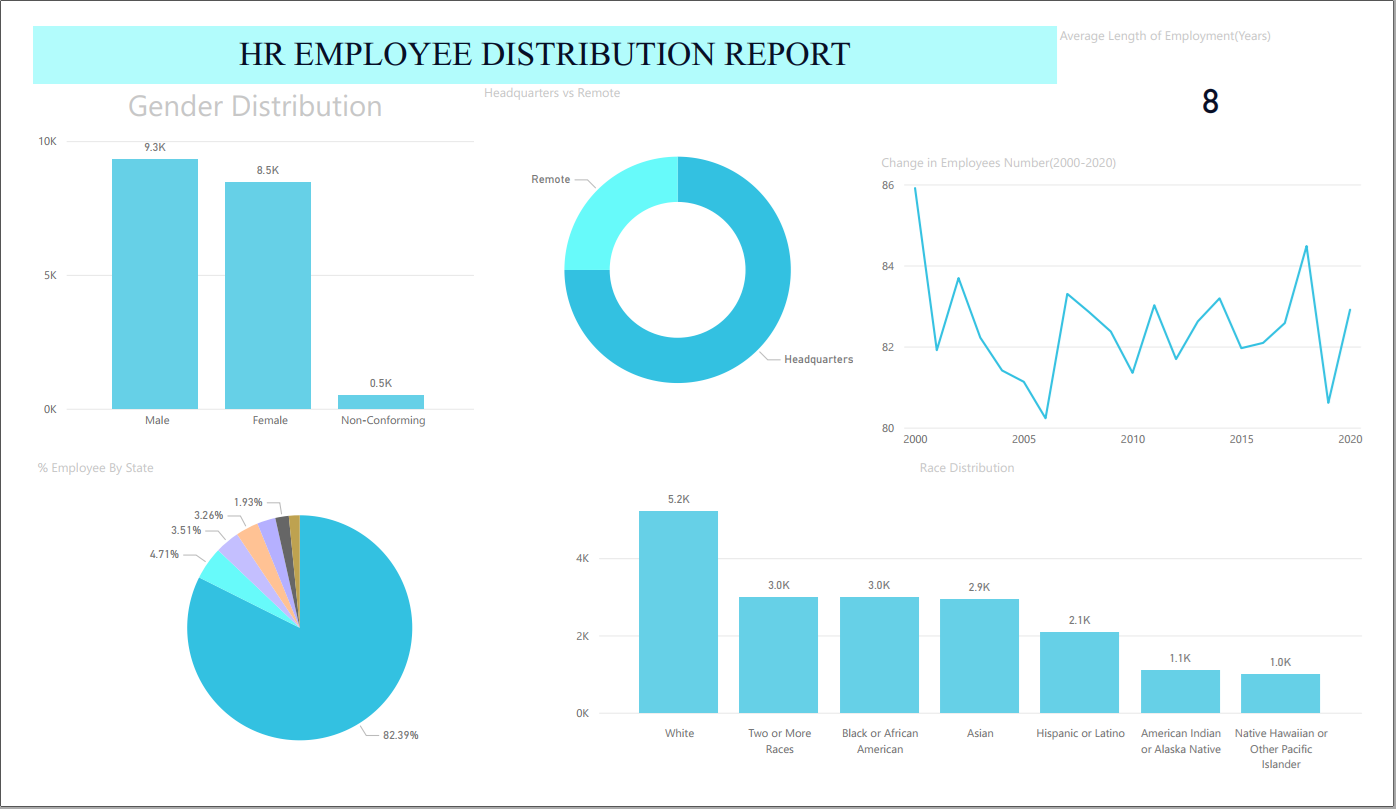

What the dashboard file says about the page in this screenshot:
{"tool":"powerbi","page":{"name":"Page 1","canvas":[1280,720],"ordinal":0},"visuals":[{"type":"textbox","box":[6.8,0,976.5,55.4],"z":0},{"type":"card","title":"Average Length of Employment(Years)","fields":{"Values":["Sum(avg_length_employment.avg_length_employment)"]},"box":[981.4,0,297.6,120.6],"z":1000},{"type":"columnChart","title":"Gender Distribution","fields":{"Y":["Sum(gender.count)"],"Category":["gender.gender"]},"box":[5.8,56.4,426,337.5],"z":2000},{"type":"donutChart","title":"Headquarters vs Remote","fields":{"Y":["Sum(location.count)"],"Category":["location.location"]},"box":[431.9,55.4,379.3,338.5],"z":3000},{"type":"lineChart","title":"Change in Employees Number(2000-2020)","fields":{"Y":["Sum(employee_change.net_change_percent)"],"Category":["employee_change.year"]},"box":[811.2,120.6,468.8,291.8],"z":4000},{"type":"pieChart","title":"% Employee By State","fields":{"Y":["Sum(state.count)"],"Category":["state.location_state"]},"box":[5.8,412.4,510.6,307.4],"z":5000},{"type":"columnChart","title":"Race Distribution","fields":{"Y":["Sum(race.count)"],"Category":["race.race"]},"box":[517.4,412.4,761.6,306.4],"z":6000}]}

Visuals, with their boxes in screenshot pixels (x1, y1, x2, y2), scaled from the page's 1280x720 canvas onto the 1396x809 screenshot:
textbox: <box>7,0,1072,62</box>
"Average Length of Employment(Years)" card: <box>1070,0,1395,136</box>
"Gender Distribution" columnChart: <box>6,63,471,443</box>
"Headquarters vs Remote" donutChart: <box>471,62,885,443</box>
"Change in Employees Number(2000-2020)" lineChart: <box>885,136,1395,463</box>
"% Employee By State" pieChart: <box>6,463,563,808</box>
"Race Distribution" columnChart: <box>564,463,1395,808</box>
